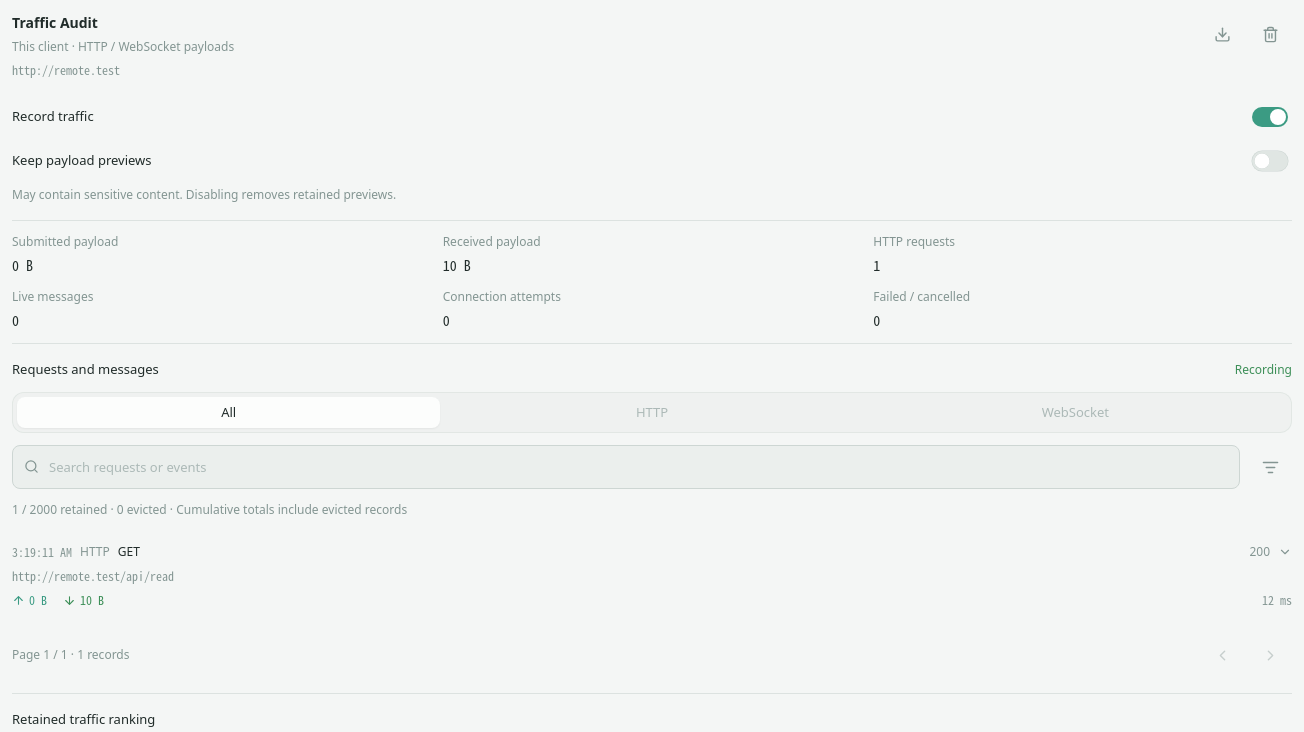
TrafficAuditSettings › pauses capture, clears records and toggles previews with the shared switches
Click the switch named "Record traffic" at (1270, 116), box x1=1252 y1=106 x2=1288 y2=126
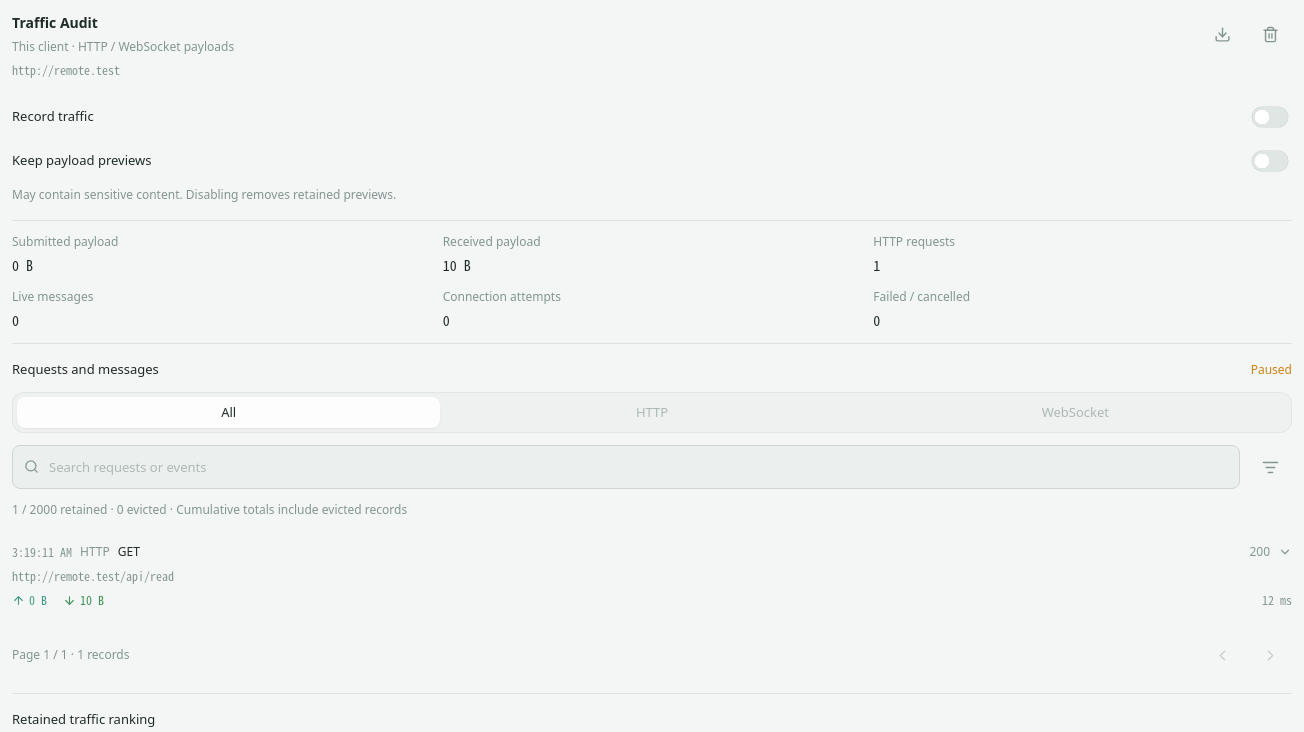
Check: the text "Paused" is shown, box x1=1251 y1=361 x2=1292 y2=379
Click the switch named "Keep payload previews" at (1270, 160), box x1=1252 y1=150 x2=1288 y2=170
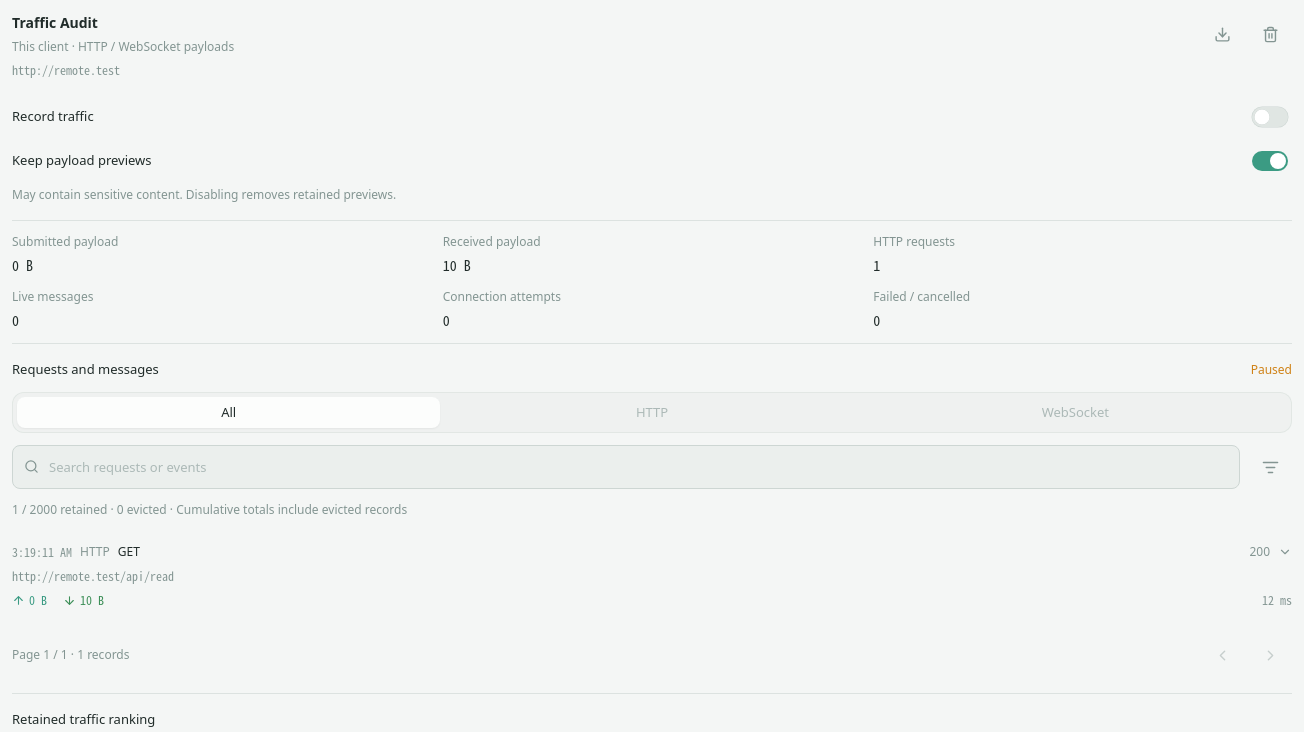
Click the button named "Clear audit records" at (1270, 34), box x1=1248 y1=12 x2=1292 y2=56
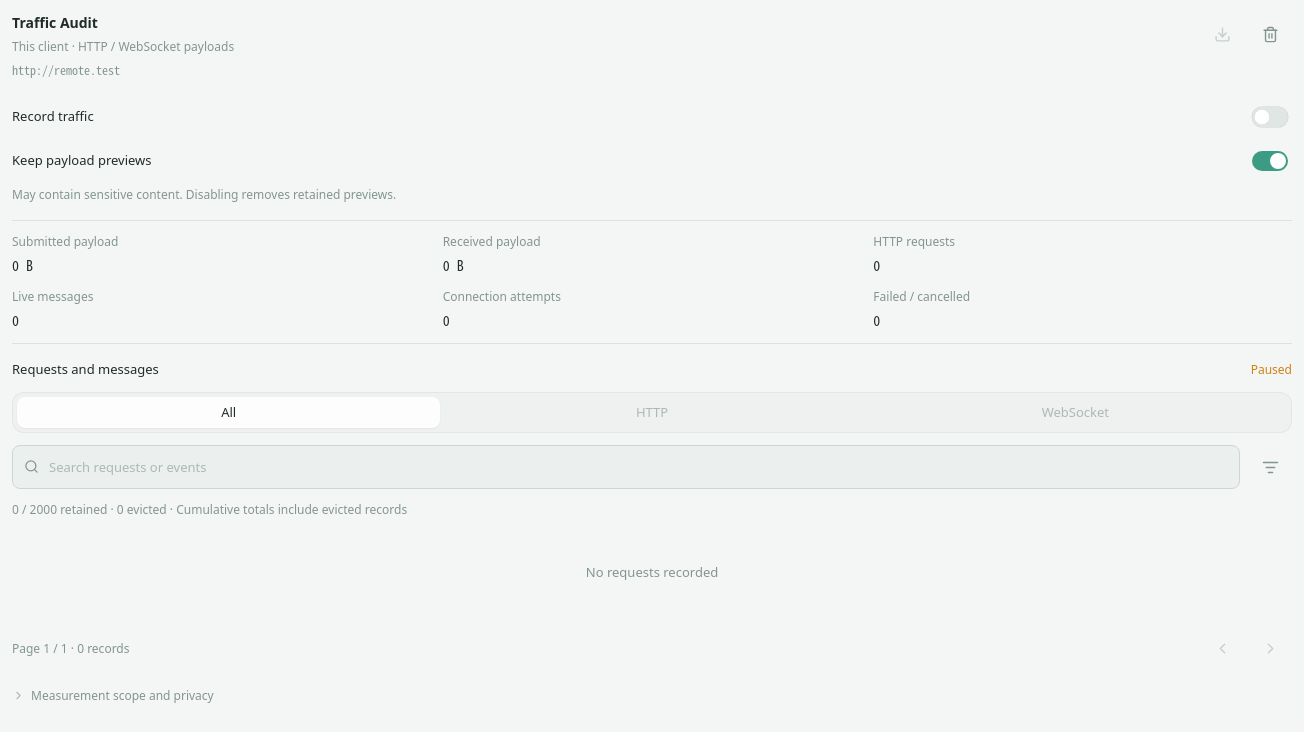
Check: the text "No requests recorded" is shown, box x1=586 y1=563 x2=718 y2=581
